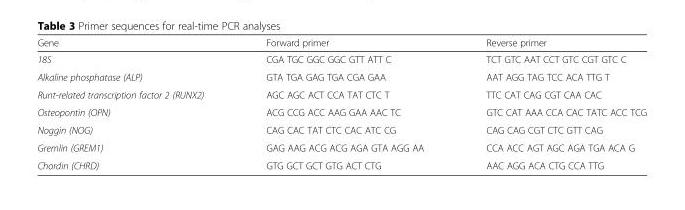table: (36, 36, 646, 170)
table column: (234, 36, 454, 170), (36, 36, 234, 170), (454, 36, 646, 170)
table column header: (36, 36, 646, 50)
table row: (36, 67, 646, 85), (36, 85, 646, 103), (36, 120, 646, 138), (36, 138, 646, 156), (36, 50, 646, 67), (36, 103, 646, 120), (36, 36, 646, 50), (36, 156, 646, 170)
